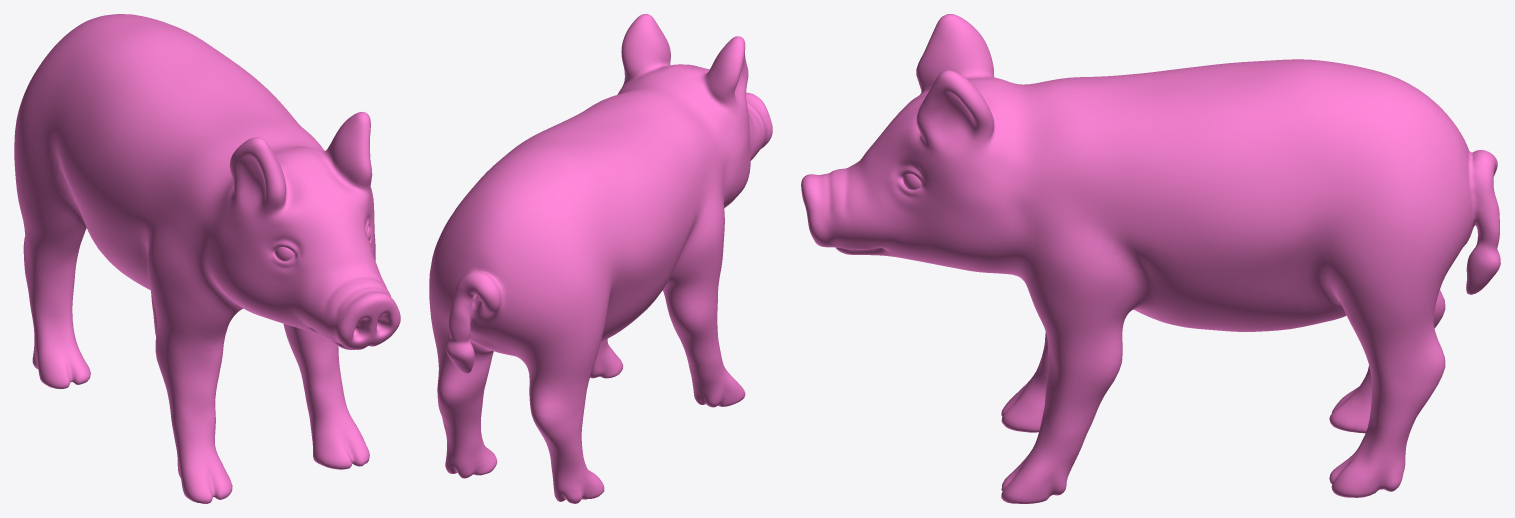
File: skyPig.gltf
3 views of the same model, side by side, from view 1: azimuth 30°, elevation 25°; view 2: azimuth 150°, elevation 25°; view 3: azimuth 270°, elevation 25° (orthographic). The views are drawn at different scales.
Parts seen in each view (by area): view 1: 18412_Pig_v1; view 2: 18412_Pig_v1; view 3: 18412_Pig_v1.
Boxes of the visible parts, x1,y1,x2,y2 form: 18412_Pig_v1: (14, 14, 400, 503); 18412_Pig_v1: (429, 14, 772, 503); 18412_Pig_v1: (801, 14, 1500, 503).
Size of the model in its own units: 2.41 by 4.57 by 6.95.
